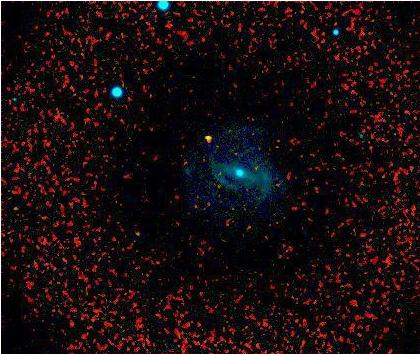star: (191, 120, 221, 150)
